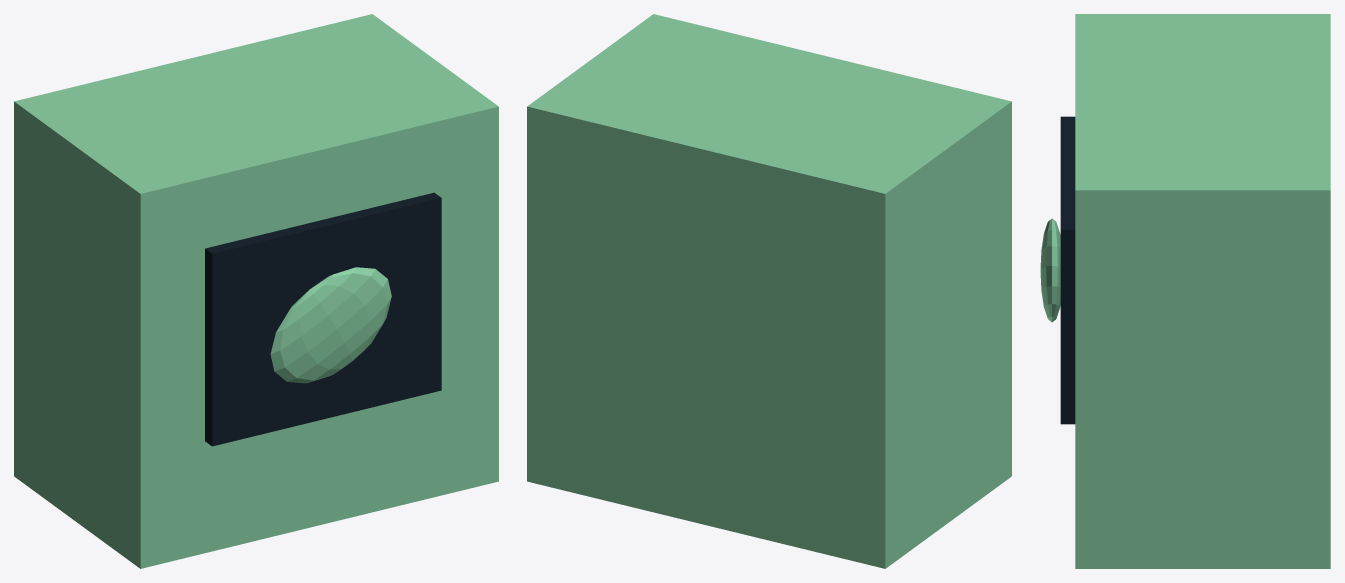
Rendered from item-seeds.glb.
3 views of the same model, side by side, from view 1: azimuth 30°, elevation 25°; view 2: azimuth 150°, elevation 25°; view 3: azimuth 270°, elevation 25° (orthographic).
Parts seen in each view (by area): view 1: package, label, seed-leaf; view 2: package; view 3: package, label, seed-leaf.
Boxes of the visible parts, x1,y1,x2,y2 form: package: (14,14,498,568); label: (205,192,441,446); seed-leaf: (270,267,391,383); package: (527,14,1011,568); package: (1075,14,1330,568); label: (1060,116,1075,424); seed-leaf: (1040,218,1060,322).
Bounding box in the file's own units: 0.72 × 0.72 × 0.5.
